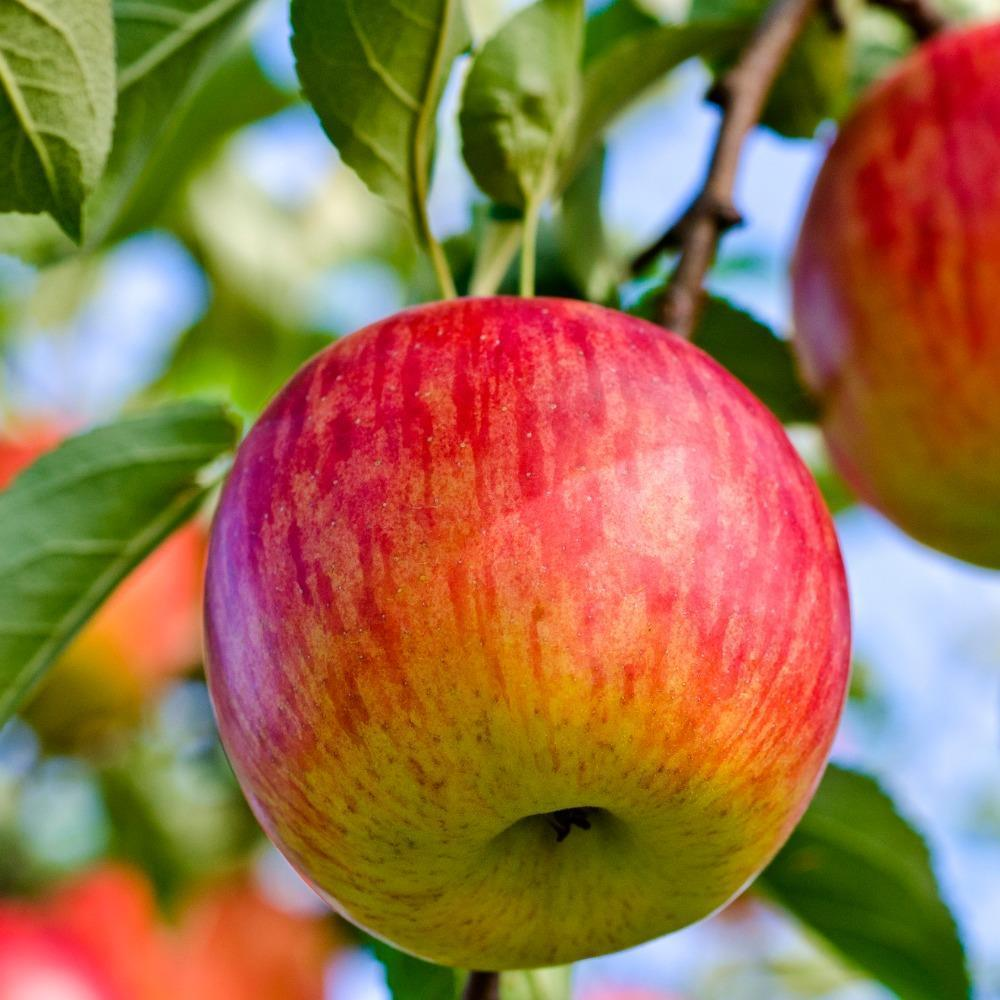apple: (206, 298, 883, 965)
